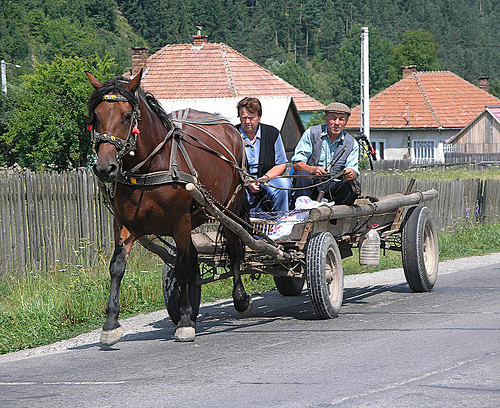horse: (85, 67, 258, 347)
